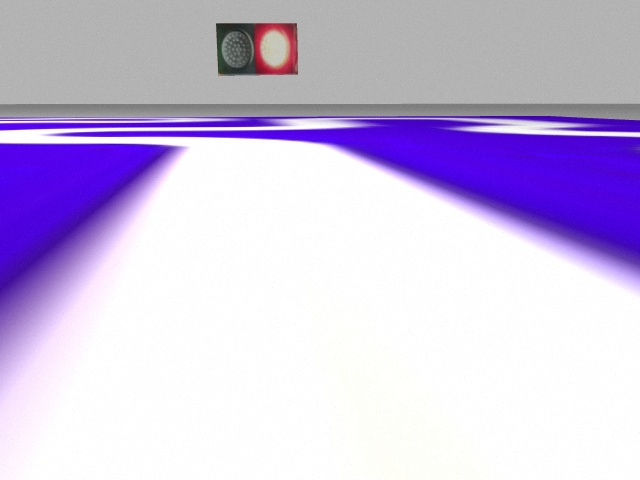red: (254, 23, 297, 75)
